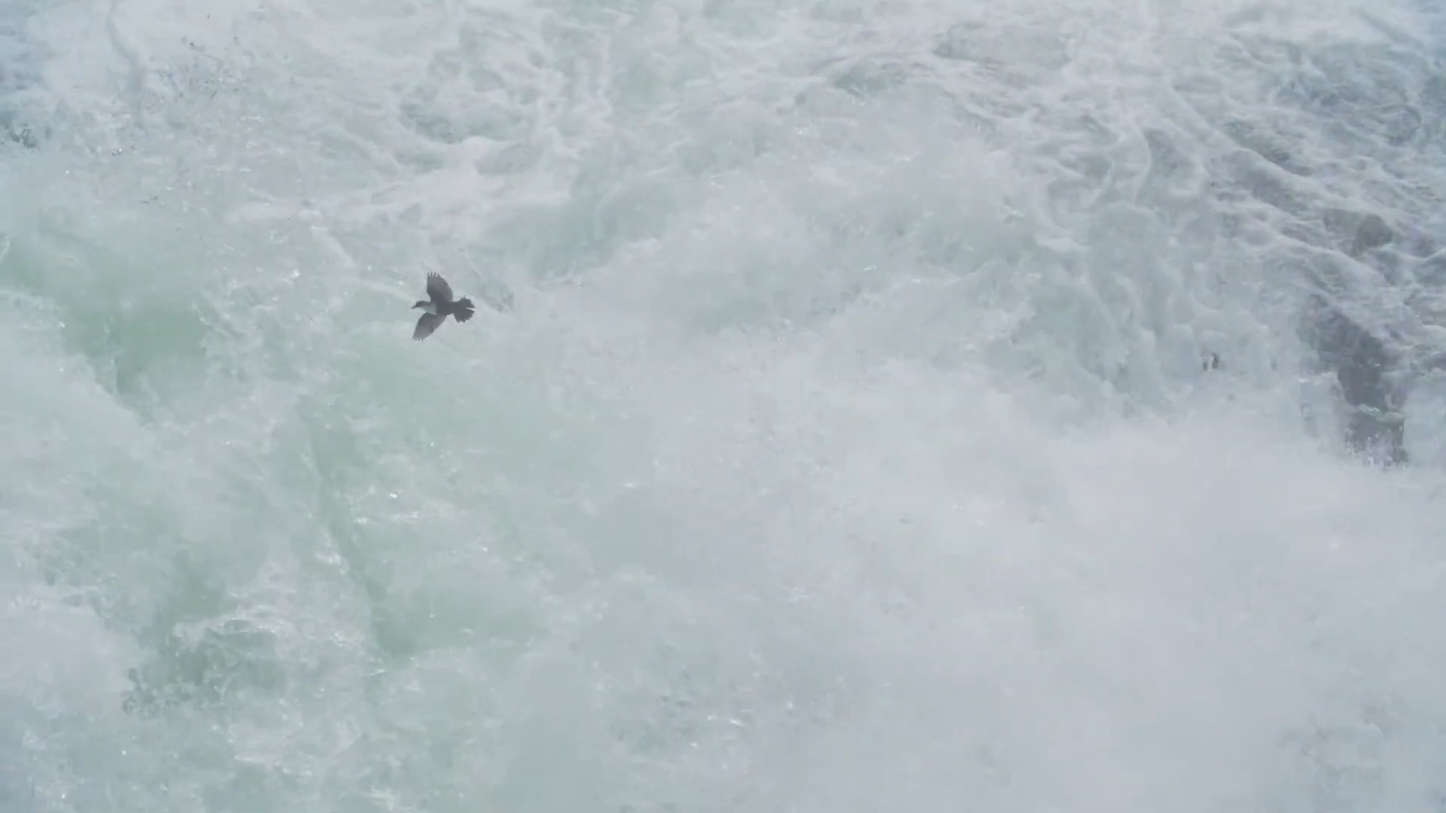not_drone: (396, 264, 478, 349)
